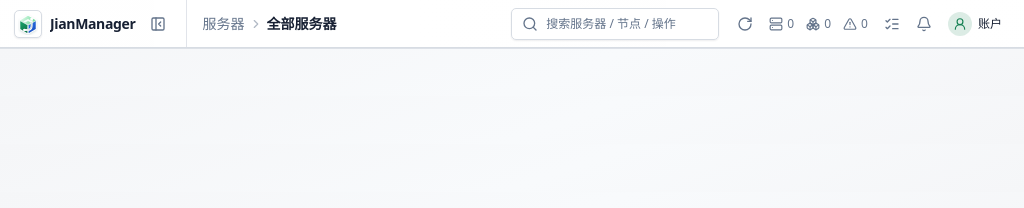
Test: ConsoleHeader 任务中心下拉面板（FR-327） › 面板外点击关闭（不导航）
Step 1. Click the button named "任务中心" → (892, 24), box x1=878 y1=12 x2=906 y2=36
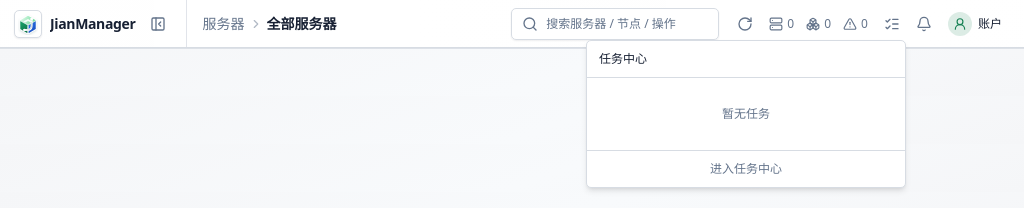
Now the menu is shown, box x1=586 y1=40 x2=906 y2=188
Step 2. Click the element that starts with "JianManager" → (512, 24), box x1=0 y1=0 x2=1023 y2=48
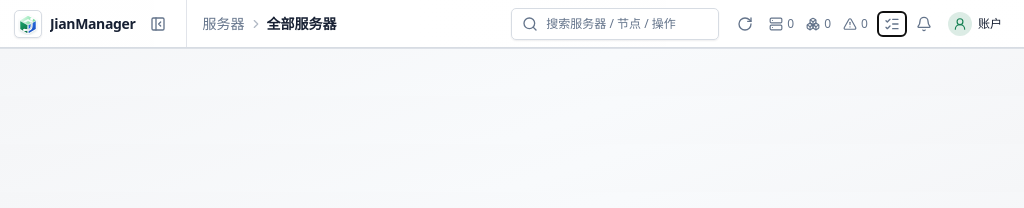
Now the menu is gone
